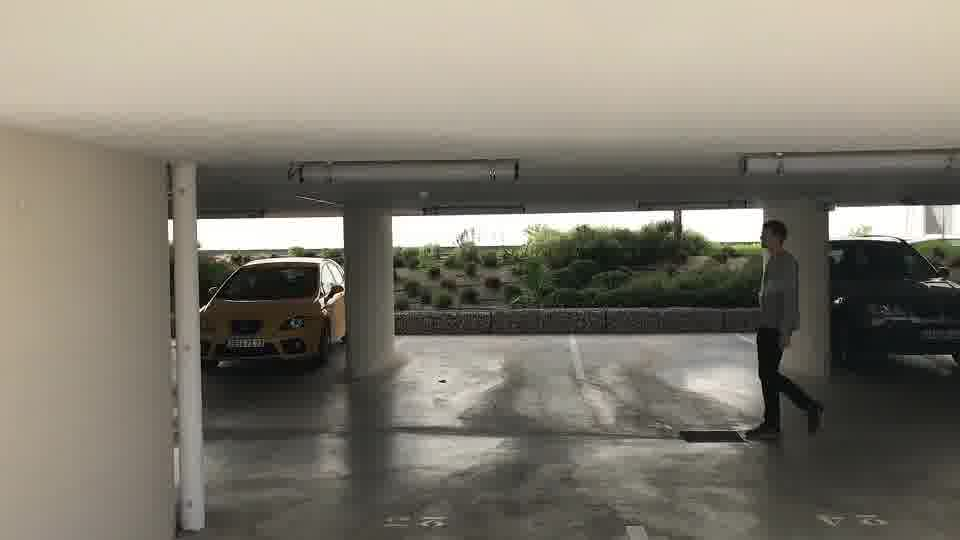jugador: (716, 216, 826, 452)
